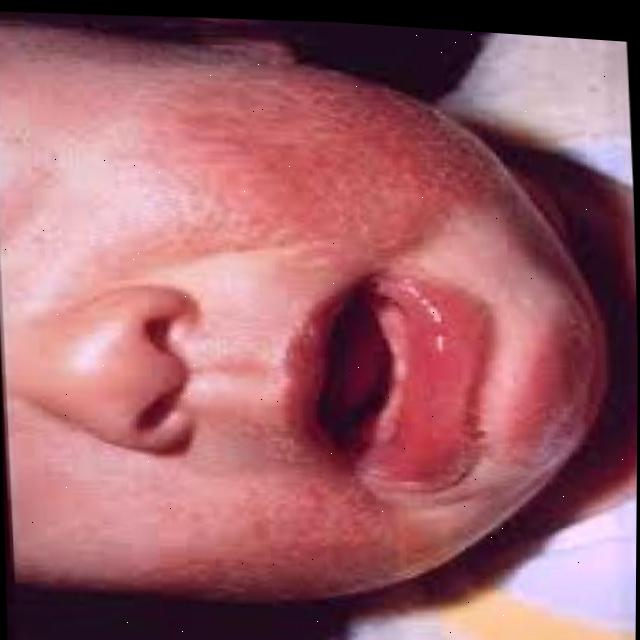Eczema: (182, 97, 476, 278), (171, 480, 413, 605), (508, 318, 583, 454)
